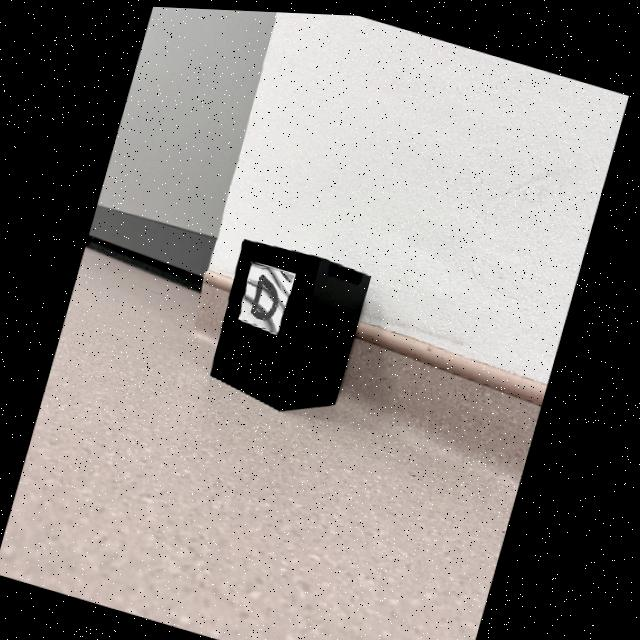D: (252, 272, 280, 318)
